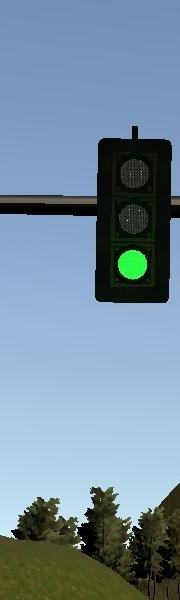Green: (95, 135, 171, 305)
